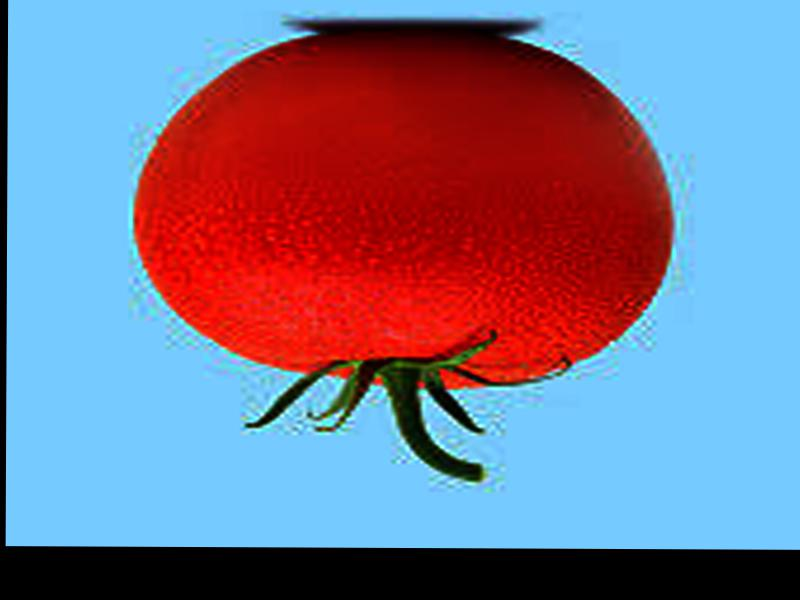Tomato: (132, 34, 671, 386)
